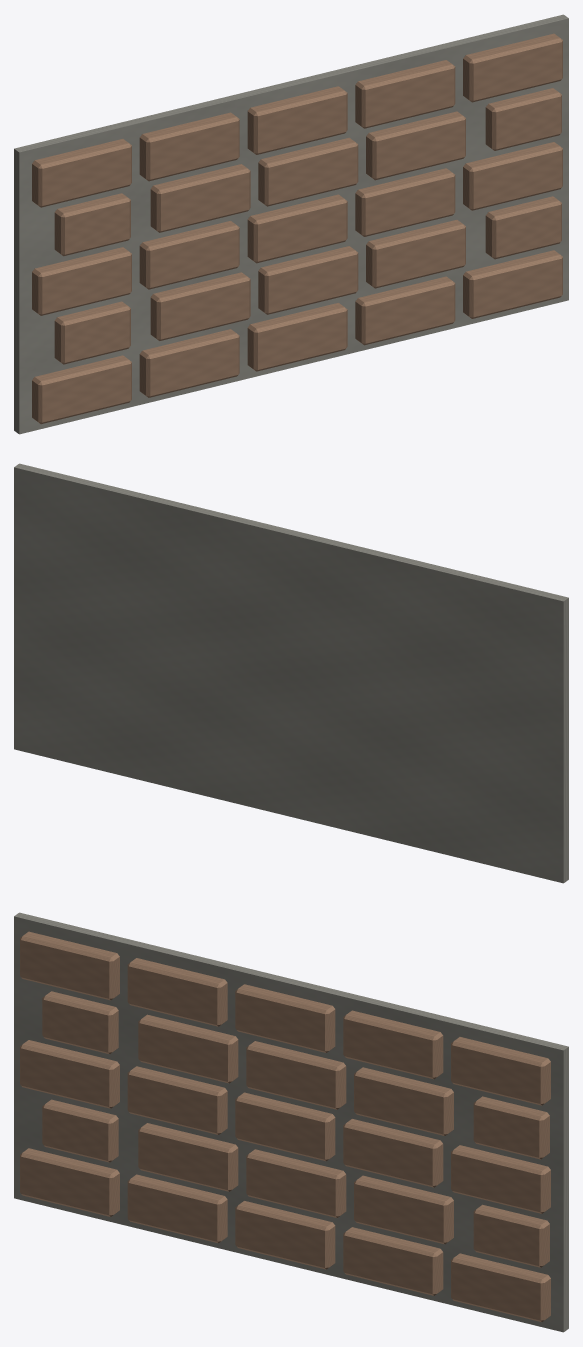
The model's file is D_MasonryPatch_Wide_visual.glb.
3 views of the same model, one above another, from view 1: azimuth 30°, elevation 25°; view 2: azimuth 150°, elevation 25°; view 3: azimuth 330°, elevation 25° (orthographic).
Visible parts, largest first — view 1: D_MasonryPatch_Wide__VIS; view 2: D_MasonryPatch_Wide__VIS; view 3: D_MasonryPatch_Wide__VIS.
Boxes of the visible parts, bbox=[...] form: D_MasonryPatch_Wide__VIS: bbox=[14, 14, 568, 434]; D_MasonryPatch_Wide__VIS: bbox=[14, 463, 568, 883]; D_MasonryPatch_Wide__VIS: bbox=[14, 912, 568, 1332].
Size of the model in its own units: 5.1 by 2.5 by 0.215.
Materials: 1 (1 with a texture image).
